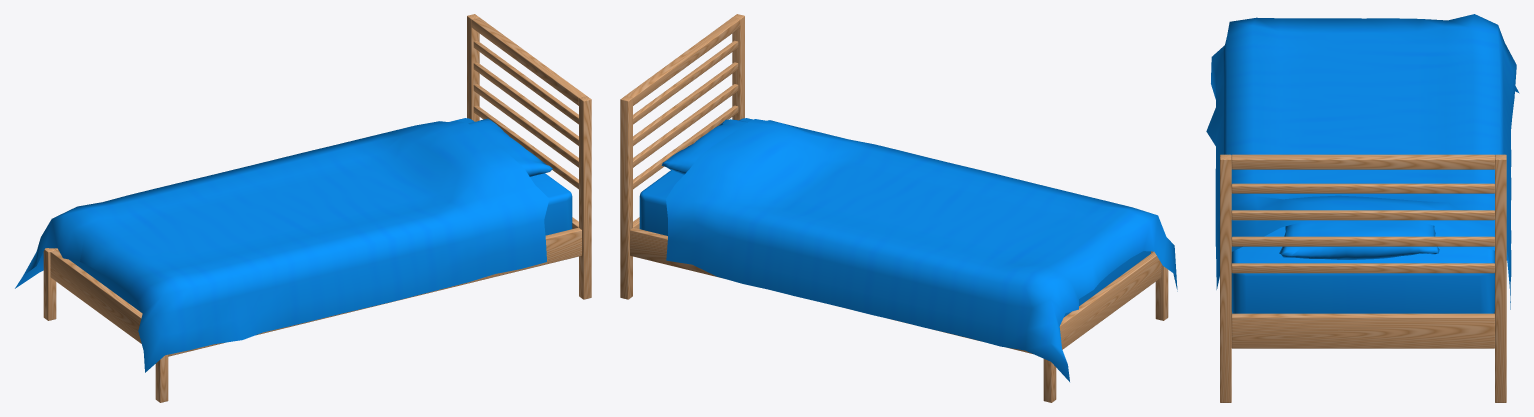
Rendered from Bed.fbx.
The picture shows the model from 3 angles, left to right: view 1: azimuth 30°, elevation 25°; view 2: azimuth 150°, elevation 25°; view 3: azimuth 270°, elevation 25°; orthographic projection. The views are drawn at different scales.
Visible parts, largest first — view 1: Duvet, Front_Panel, Back_Right_Leg, Mattress, Head_Stock, Right_Panel, Pilow, Head_Stock_Small.001, Head_Stock_Small.002, Head_Stock_Small, Back_Left_Leg, Head_Stock_Small.003 (+2 smaller); view 2: Duvet, Front_Panel, Back_Left_Leg, Mattress, Head_Stock, Left_Panel, Pilow, Head_Stock_Small, Head_Stock_Small.001, Head_Stock_Small.002, Back_Right_Leg, Head_Stock_Small.003 (+2 smaller); view 3: Duvet, Mattress, Back_Panel, Pilow, Head_Stock, Back_Left_Leg, Back_Right_Leg, Head_Stock_Small, Head_Stock_Small.001, Head_Stock_Small.002, Head_Stock_Small.003.
Boxes of the visible parts, <box> form: Duvet: <box>15,121,549,372</box>; Front_Panel: <box>50,250,142,343</box>; Back_Right_Leg: <box>579,96,591,299</box>; Mattress: <box>69,118,572,312</box>; Head_Stock: <box>471,17,586,105</box>; Right_Panel: <box>168,227,581,356</box>; Pilow: <box>468,118,552,176</box>; Head_Stock_Small.001: <box>473,62,578,145</box>; Head_Stock_Small.002: <box>473,84,578,167</box>; Head_Stock_Small: <box>473,40,578,124</box>; Back_Left_Leg: <box>467,14,479,121</box>; Head_Stock_Small.003: <box>473,105,578,189</box>; Duvet: <box>666,119,1177,381</box>; Front_Panel: <box>1059,251,1161,349</box>; Back_Left_Leg: <box>620,96,632,299</box>; Mattress: <box>639,118,1150,316</box>; Head_Stock: <box>625,17,740,105</box>; Left_Panel: <box>630,227,1032,353</box>; Pilow: <box>661,119,747,174</box>; Head_Stock_Small: <box>633,40,738,124</box>; Head_Stock_Small.001: <box>633,62,738,145</box>; Head_Stock_Small.002: <box>633,84,738,167</box>; Back_Right_Leg: <box>732,14,744,120</box>; Head_Stock_Small.003: <box>633,105,738,189</box>; Duvet: <box>1206,14,1519,309</box>; Mattress: <box>1231,226,1494,313</box>; Back_Panel: <box>1231,313,1494,348</box>; Pilow: <box>1279,220,1439,259</box>; Head_Stock: <box>1231,154,1494,169</box>; Back_Left_Leg: <box>1495,154,1506,402</box>; Back_Right_Leg: <box>1220,154,1231,402</box>; Head_Stock_Small: <box>1231,183,1494,193</box>; Head_Stock_Small.001: <box>1231,210,1494,220</box>; Head_Stock_Small.002: <box>1231,236,1494,246</box>; Head_Stock_Small.003: <box>1231,263,1494,273</box>.
Size of the model in its own units: 26.46 by 11.04 by 12.86.
Materials: 3 (2 with a texture image).
